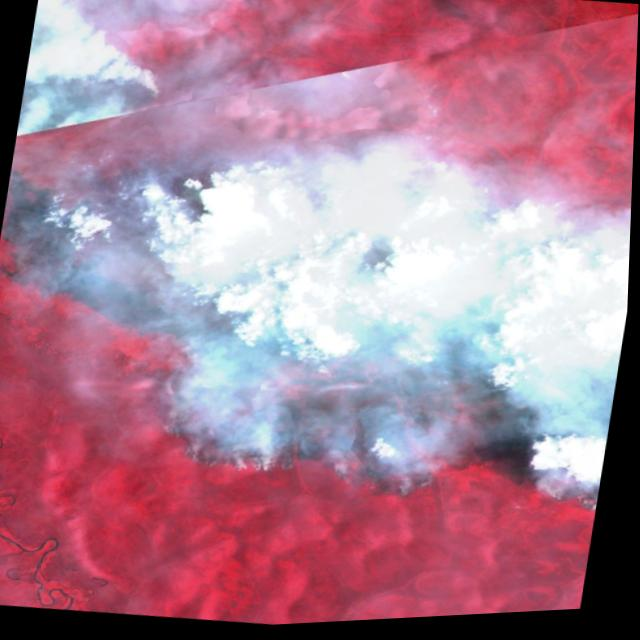fire: (141, 366, 324, 496), (312, 427, 469, 540), (514, 444, 609, 530)
